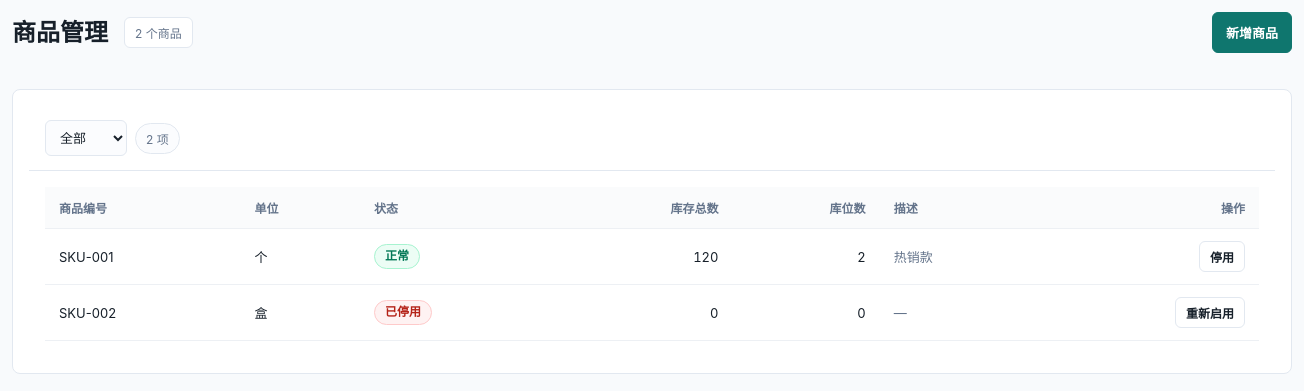
Scenario: ProductsView › filters the list by status
The width and height of the screenshot is (1304, 391).
Select "已停用" in the dropdown with test id "status-filter" at [86, 138], box 45,120 -> 127,156
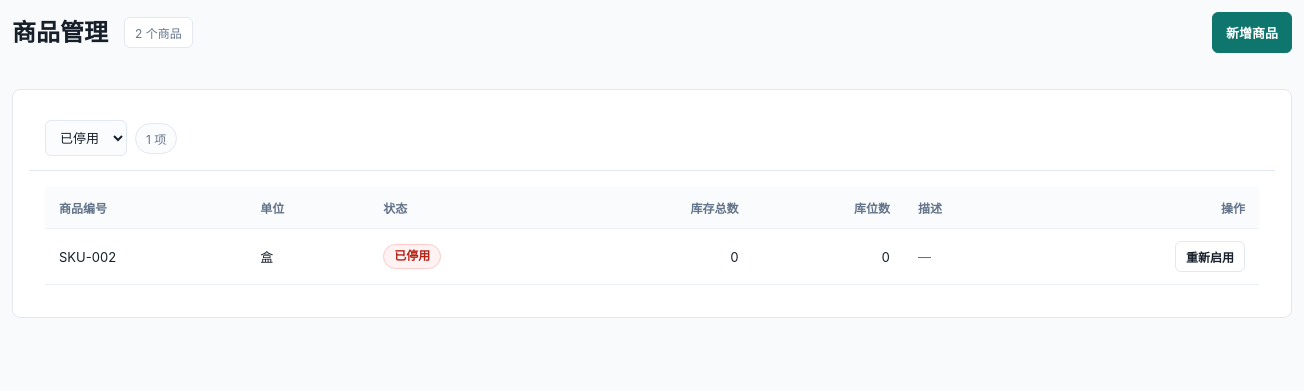
Expected: the row with test id "product-row" shows "SKU-002", 59,248 -> 116,264
Expected: the number of rows with test id "product-row" is 1, 45,228 -> 1259,284
